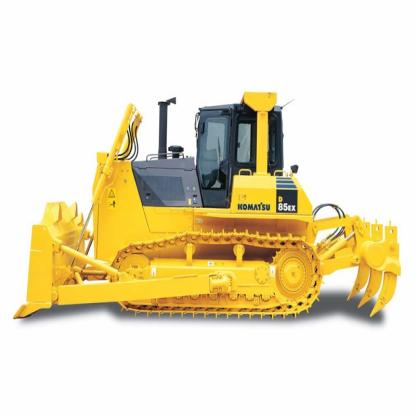bull_dozer/loader/grader: (13, 76, 407, 331)
